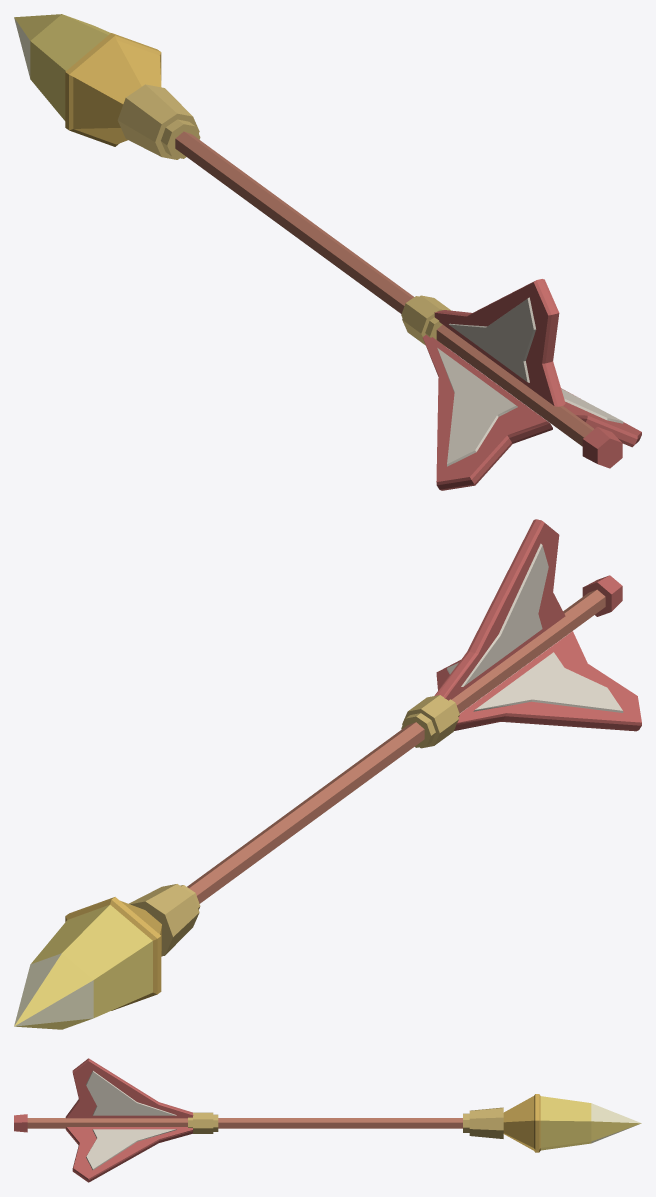
The model's file is ember_fang_arrow_roblox.glb.
3 renders of one model, top to bottom at view 1: azimuth 30°, elevation 25°; view 2: azimuth 150°, elevation 25°; view 3: azimuth 270°, elevation 25°, orthographic. The views are drawn at different scales.
Visible parts, largest first — view 1: Arrow, Gems; view 2: Arrow, Gems; view 3: Arrow, Gems.
Boxes of the visible parts, x1=… form: Arrow: x1=65, y1=33, x2=641, y2=490; Gems: x1=14, y1=14, x2=110, y2=120; Arrow: x1=65, y1=519, x2=641, y2=1010; Gems: x1=14, y1=904, x2=152, y2=1029; Arrow: x1=14, y1=1058, x2=540, y2=1182; Gems: x1=540, y1=1096, x2=641, y2=1150.
Size of the model in its own units: 0.3703 by 0.3232 by 1.86.
